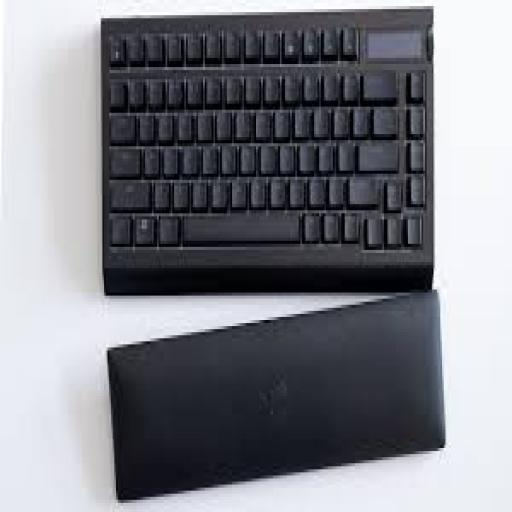KEYBOARD-2: (102, 9, 432, 293)
